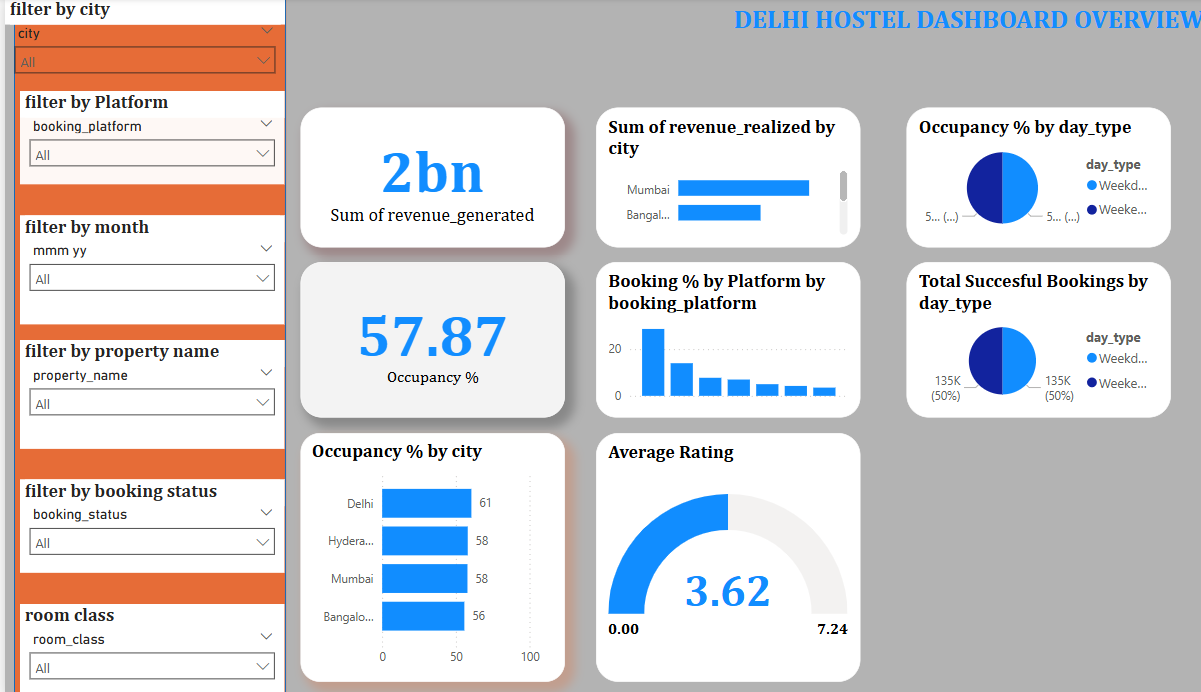

Layout of this report page (visuals, bound fields, positions):
{"tool":"powerbi","page":{"name":"Page 1","canvas":[1280,720],"ordinal":0},"visuals":[{"type":"shape","box":[9.4,0,279.7,720],"z":0},{"type":"slicer","title":"filter by city","fields":{"Values":["dim_hotels.city"]},"box":[0,0,288,96],"z":1000},{"type":"slicer","title":"filter by Platform","fields":{"Values":["fact_bookings.booking_platform"]},"box":[16,96,272,96],"z":2000},{"type":"slicer","title":"filter by month","fields":{"Values":["dim_date.mmm yy"]},"box":[16,224,272,112],"z":3000},{"type":"slicer","title":"filter by property name","fields":{"Values":["dim_hotels.property_name"]},"box":[16,352,272,112],"z":4000},{"type":"slicer","title":"filter by booking status","fields":{"Values":["fact_bookings.booking_status"]},"box":[16,496,272,96],"z":5000},{"type":"slicer","title":"room class","fields":{"Values":["dim_rooms.room_class"]},"box":[16,624,272,96],"z":6000},{"type":"card","fields":{"Values":["Sum(fact_bookings.revenue_generated)"]},"box":[304,112,272,144],"z":7000},{"type":"card","fields":{"Values":["dim_date.Occupancy %"]},"box":[304,272,272,160],"z":8000},{"type":"clusteredBarChart","fields":{"Y":["dim_date.Occupancy %"],"Category":["dim_hotels.city"]},"box":[304,448,272,256],"z":9000},{"type":"clusteredBarChart","fields":{"Y":["Sum(fact_bookings.revenue_realized)"],"Category":["dim_hotels.city"]},"box":[608,112,272,144],"z":10000},{"type":"columnChart","fields":{"Y":["dim_date.Booking % by Platform"],"Category":["fact_bookings.booking_platform"]},"box":[608,272,272,160],"z":11000},{"type":"pieChart","fields":{"Category":["dim_date.day_type"],"Y":["dim_date.Occupancy %"]},"box":[928,112,272,144],"z":12000},{"type":"pieChart","fields":{"Y":["dim_date.Total Succesful Bookings"],"Category":["dim_date.day_type"]},"box":[928,272,272,160],"z":13000},{"type":"gauge","fields":{"Y":["dim_date.Average Rating"]},"box":[608,448,272,256],"z":14000},{"type":"textbox","box":[704,0,576,64],"z":15000}]}

Visuals, with their boxes in screenshot pixels (x1, y1, x2, y2), scaled from the page's 1280x720 canvas onto the 1201x692 screenshot:
shape: bbox=(9, 0, 271, 691)
"filter by city" slicer: bbox=(0, 0, 270, 92)
"filter by Platform" slicer: bbox=(15, 92, 270, 185)
"filter by month" slicer: bbox=(15, 215, 270, 323)
"filter by property name" slicer: bbox=(15, 338, 270, 446)
"filter by booking status" slicer: bbox=(15, 477, 270, 569)
"room class" slicer: bbox=(15, 600, 270, 691)
card - Sum(fact_bookings.revenue_generated): bbox=(285, 108, 540, 246)
card - dim_date.Occupancy %: bbox=(285, 261, 540, 415)
clusteredBarChart - dim_date.Occupancy % x dim_hotels.city: bbox=(285, 431, 540, 677)
clusteredBarChart - Sum(fact_bookings.revenue_realized) x dim_hotels.city: bbox=(570, 108, 826, 246)
columnChart - dim_date.Booking % by Platform x fact_bookings.booking_platform: bbox=(570, 261, 826, 415)
pieChart - dim_date.day_type x dim_date.Occupancy %: bbox=(871, 108, 1126, 246)
pieChart - dim_date.Total Succesful Bookings x dim_date.day_type: bbox=(871, 261, 1126, 415)
gauge - dim_date.Average Rating: bbox=(570, 431, 826, 677)
textbox: bbox=(661, 0, 1200, 62)
